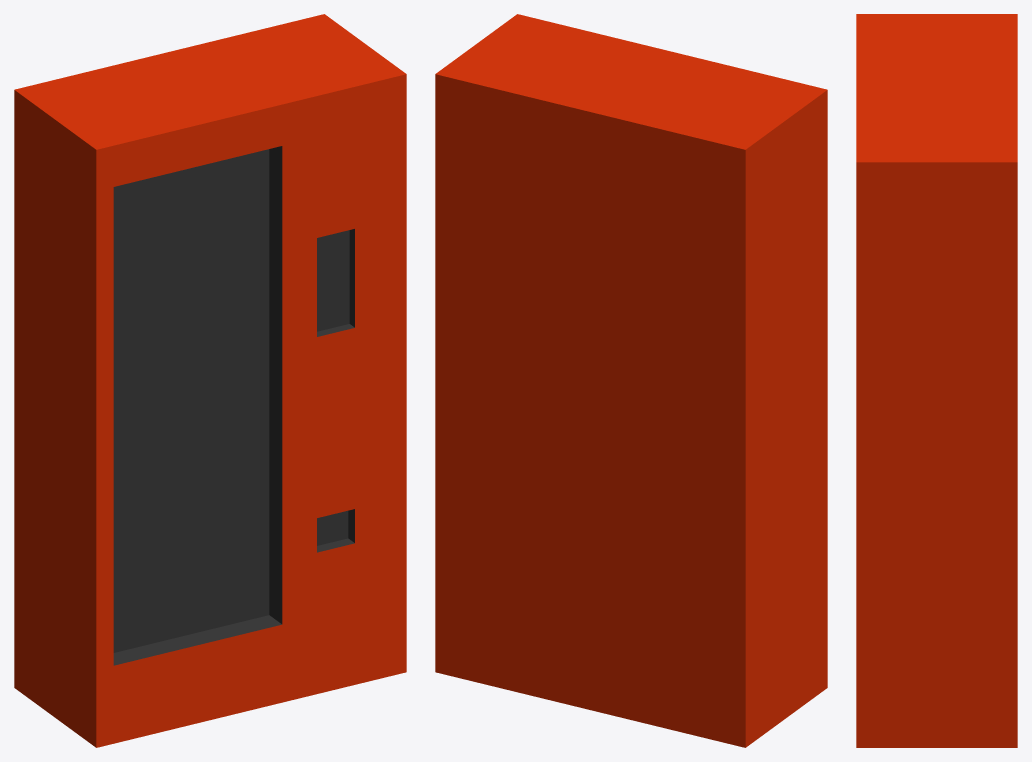
File: Distributeur.fbx
The picture shows the model from 3 angles, left to right: view 1: azimuth 30°, elevation 25°; view 2: azimuth 150°, elevation 25°; view 3: azimuth 270°, elevation 25°; orthographic projection. The views are drawn at different scales.
Parts seen in each view (by area): view 1: pCube32; view 2: pCube32; view 3: pCube32.
Part boxes in pixels (bbox=[...]): pCube32: bbox=[14, 14, 406, 747]; pCube32: bbox=[435, 14, 827, 747]; pCube32: bbox=[856, 14, 1017, 747].
Bounding box in the file's own units: 99.79 × 184 × 45.79.
